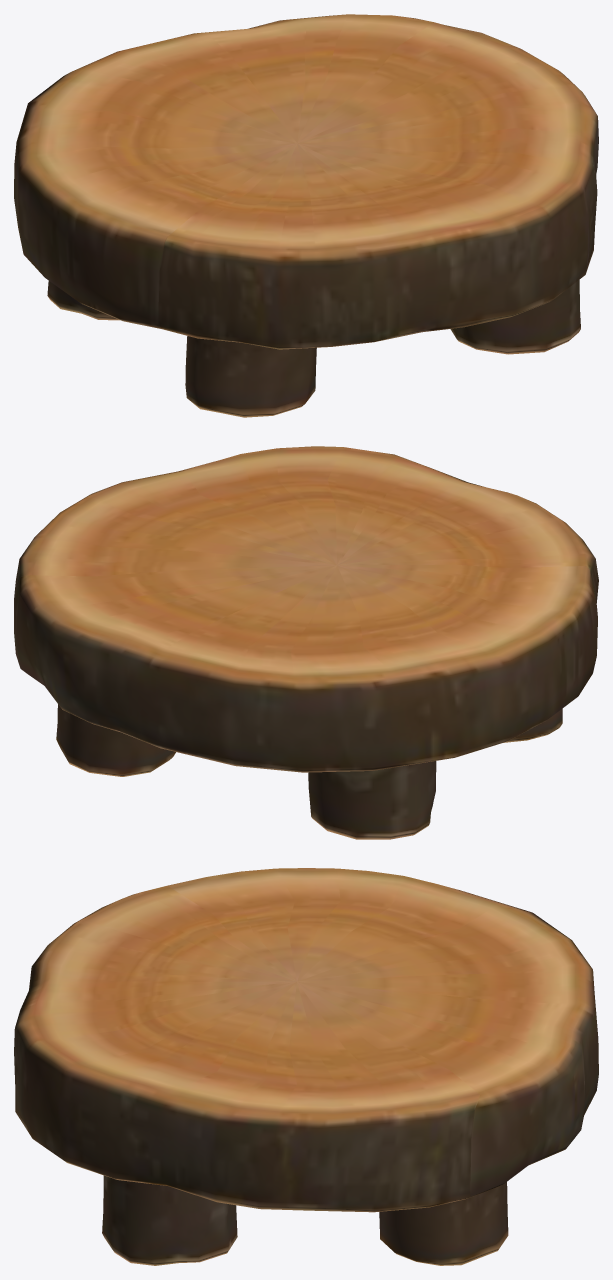
3 views of the same model, one above another, from view 1: azimuth 30°, elevation 25°; view 2: azimuth 150°, elevation 25°; view 3: azimuth 270°, elevation 25° (orthographic). The views are drawn at different scales.
Size of the model in its own units: 18.66 by 6.14 by 17.91.
1 material, 1 textured.
